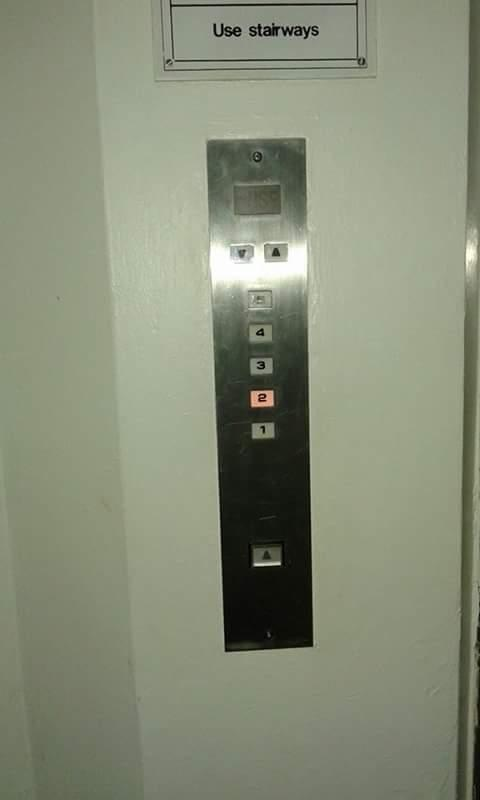1: (250, 422, 277, 441)
2: (248, 388, 277, 409)
3: (246, 355, 276, 378)
4: (246, 322, 275, 346)
5: (245, 288, 275, 312)
down: (262, 241, 291, 266)
up: (248, 537, 286, 570), (229, 243, 257, 265)
